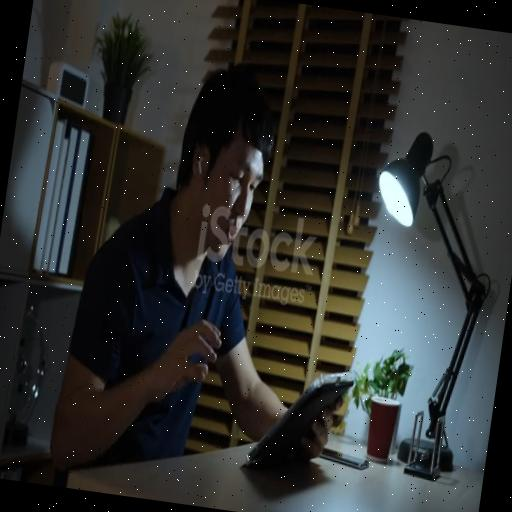earphone: (192, 154, 209, 180)
